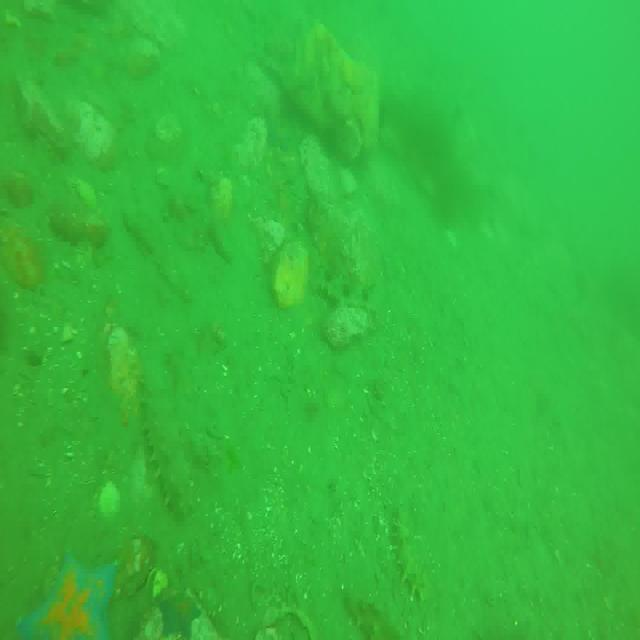holothurian: (138, 362, 190, 516), (392, 508, 425, 601)
starfish: (18, 549, 113, 640), (266, 112, 292, 152)
